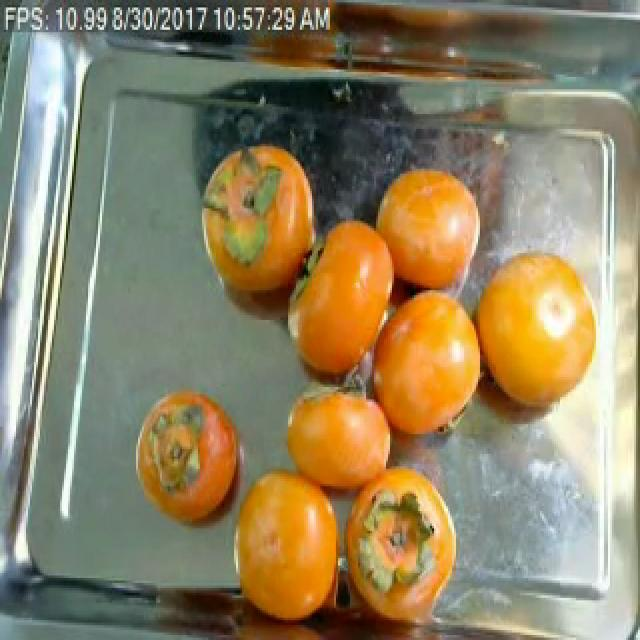Fruit: (462, 236, 612, 434), (188, 127, 328, 320), (274, 201, 404, 407), (358, 278, 494, 454), (216, 449, 340, 638), (354, 447, 474, 632), (124, 377, 252, 546), (362, 154, 490, 312), (146, 565, 262, 640)
